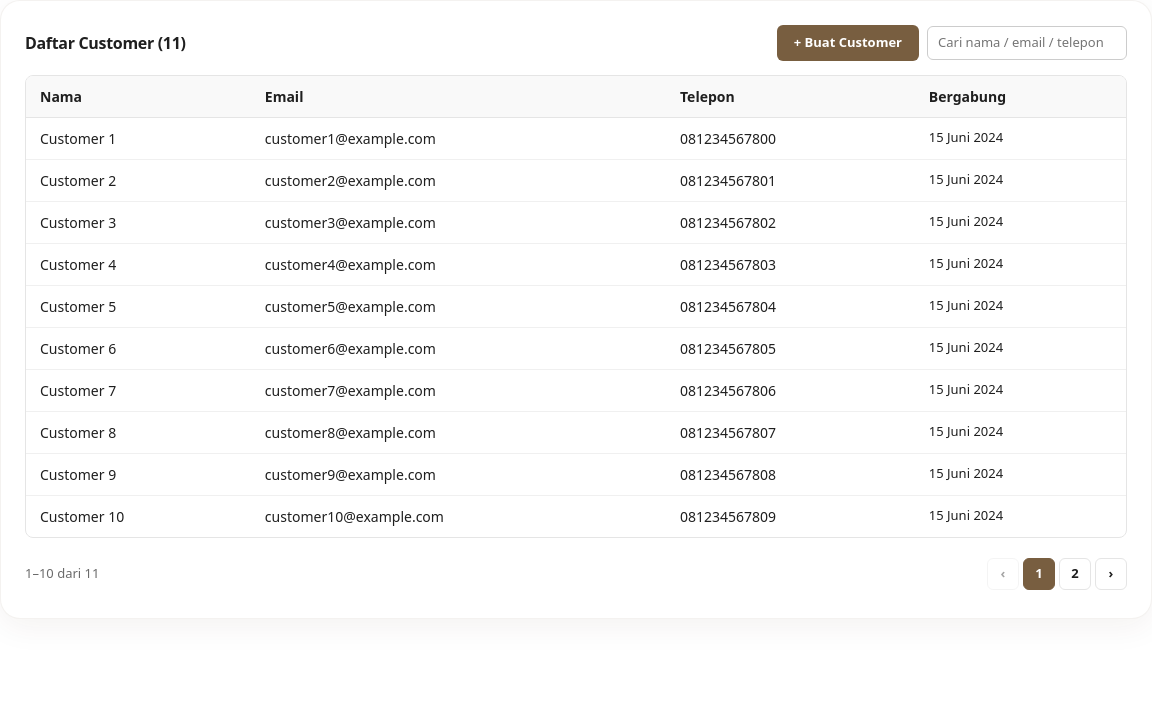
Preservation 3.3 — Pagination displays correct pages › clicking next page shows the correct customers
This screenshot has width=1152, height=720.
Click the button "›" at (1111, 574), box [1095,558,1127,590]
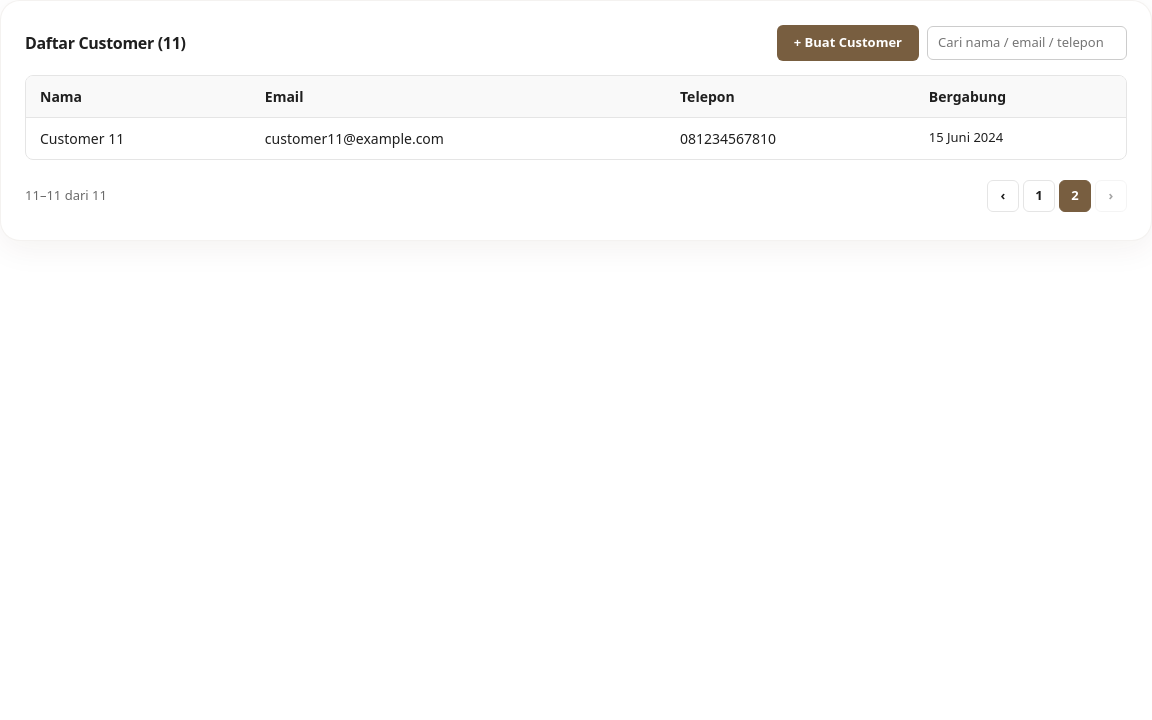
Check: the text "Customer 11" is shown, box [26,117,251,158]
Check: the text "11–11 dari 11" is shown, box [25,186,107,205]
